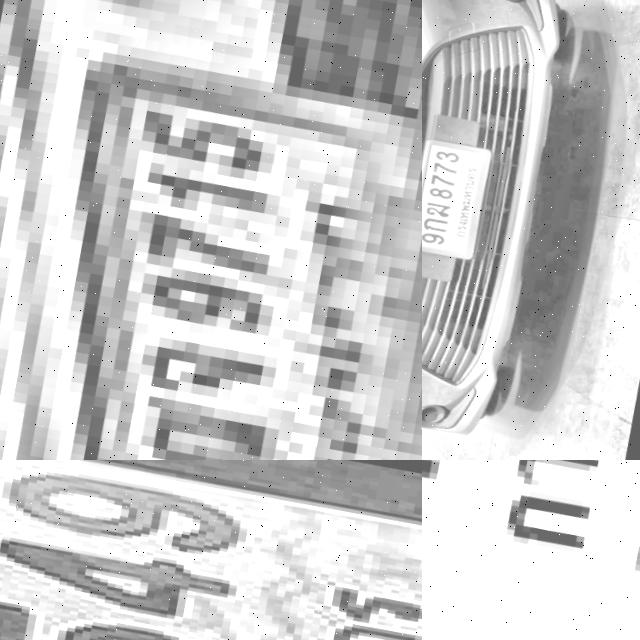license-plate: (0, 0, 422, 460), (0, 460, 422, 640), (422, 460, 640, 640), (422, 136, 495, 264)
